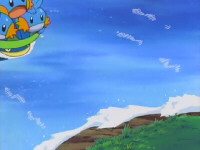mudkip: (13, 1, 48, 35)
